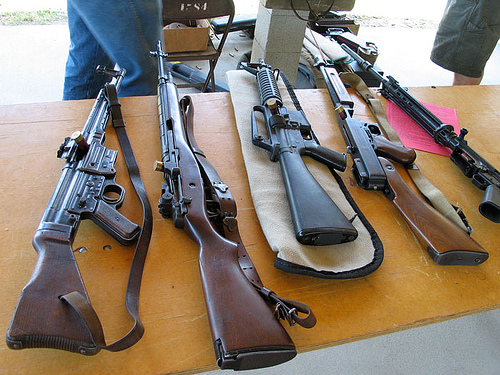rifle: (9, 66, 134, 359), (151, 36, 253, 361), (324, 48, 465, 270), (253, 51, 322, 252)
